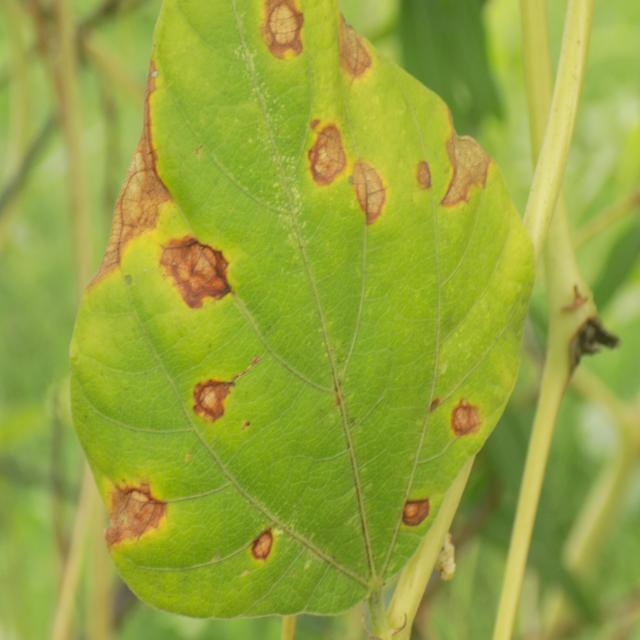Dolicos bean_cercospora leaf spot: (68, 0, 534, 620)
